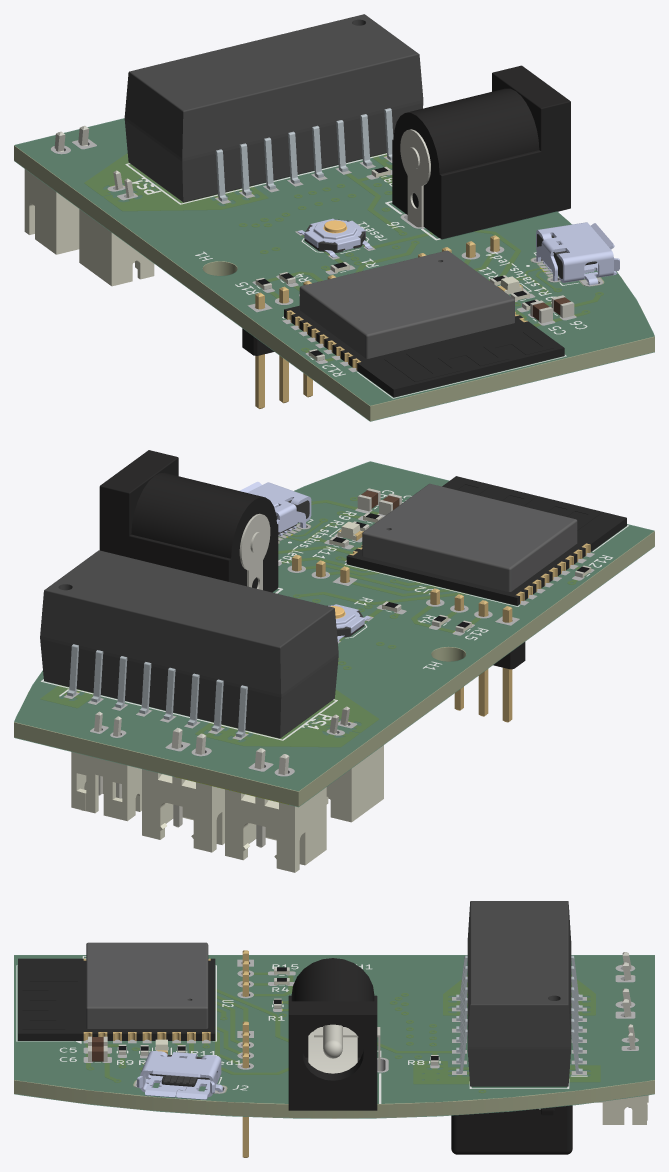
File: board.glb
3 renders of one model, top to bottom at view 1: azimuth 30°, elevation 25°; view 2: azimuth 150°, elevation 25°; view 3: azimuth 270°, elevation 25°, orthographic. The views are drawn at different scales.
Visible parts, largest first — view 1: board_soldermask (×2), board_PCB, Body, ESP32-C3-WROOM-02, BarrelJack_Horizontal, board_copper, J2, JST_B2B_XH_A, JST_B2B_PH_K, PinsArrayLR, board_pad, board_silkscreen (+2 smaller); view 2: board_soldermask (×2), board_PCB, Body, ESP32-C3-WROOM-02, BarrelJack_Horizontal, JST_B2B_XH_A (×2), JST_B2B_PH_K (×2), board_copper, PinsArrayLR, board_pad, PinHeader_1x04_P254mm_Vertical, board_silkscreen (+2 smaller); view 3: board_soldermask (×2), board_PCB, Body, ESP32-C3-WROOM-02, BarrelJack_Horizontal, L_SXN_SMDRI127, board_copper, J2, board_pad, PinsArrayLR, board_silkscreen, JST_B2B_PH_K (+1 smaller).
Boxes of the visible parts, x1,y1,x2,y2 form: board_soldermask (×2): (14, 118, 654, 421); board_PCB: (14, 119, 654, 421); Body: (124, 14, 423, 202); ESP32-C3-WROOM-02: (284, 250, 564, 397); BarrelJack_Horizontal: (392, 65, 570, 239); board_copper: (85, 154, 602, 360); J2: (536, 222, 619, 285); JST_B2B_XH_A: (24, 125, 89, 254); JST_B2B_PH_K: (79, 170, 154, 286); PinsArrayLR: (215, 108, 393, 201); board_pad: (51, 139, 603, 372); board_silkscreen: (125, 153, 587, 398); board_soldermask (×2): (14, 461, 654, 807); board_PCB: (14, 462, 654, 806); Body: (40, 550, 338, 738); ESP32-C3-WROOM-02: (346, 476, 626, 605); BarrelJack_Horizontal: (99, 450, 278, 592); JST_B2B_XH_A (×2): (142, 727, 326, 872); JST_B2B_PH_K (×2): (71, 706, 383, 822); board_copper: (41, 497, 578, 804); PinsArrayLR: (67, 644, 247, 737); board_pad: (63, 504, 594, 776); PinHeader_1x04_P254mm_Vertical: (430, 588, 525, 722); board_silkscreen: (41, 490, 628, 740); board_soldermask (×2): (14, 955, 654, 1118); board_PCB: (14, 956, 654, 1118); Body: (467, 901, 571, 1086); ESP32-C3-WROOM-02: (18, 942, 215, 1040); BarrelJack_Horizontal: (288, 958, 380, 1110); L_SXN_SMDRI127: (451, 1105, 572, 1154); board_copper: (86, 973, 599, 1092); J2: (137, 1051, 222, 1099); board_pad: (83, 959, 638, 1093); PinsArrayLR: (456, 955, 582, 1073); board_silkscreen: (16, 956, 587, 1103); JST_B2B_PH_K: (602, 1024, 647, 1124).
Size of the model in its own units: 0.0374 by 0.0209 by 0.065.
